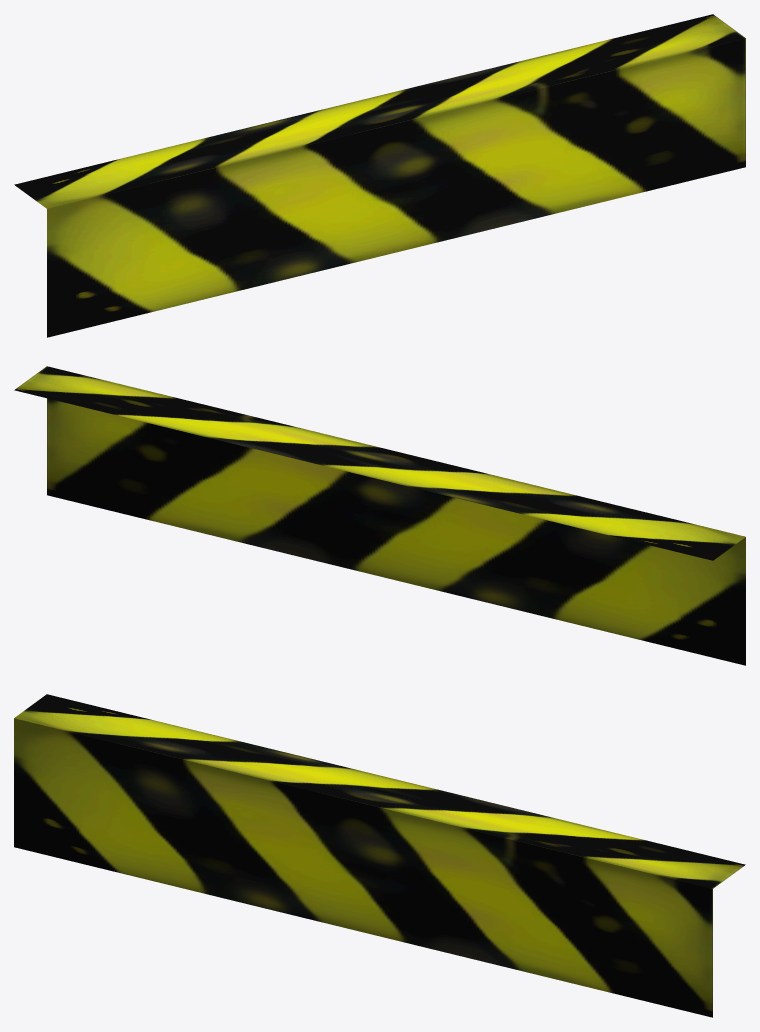
The model's file is Barrikade_2344.glb.
The picture shows the model from 3 angles, top to bottom: view 1: azimuth 30°, elevation 25°; view 2: azimuth 150°, elevation 25°; view 3: azimuth 330°, elevation 25°; orthographic projection.
Parts seen in each view (by area): view 1: pPlaneShape136, pPlaneShape135; view 2: pPlaneShape136, pPlaneShape135; view 3: pPlaneShape136, pPlaneShape135.
Boxes of the visible parts, box(x1,y1,x2,y2) form: pPlaneShape136: box(47, 38, 745, 337); pPlaneShape135: box(14, 14, 745, 208); pPlaneShape136: box(47, 398, 745, 665); pPlaneShape135: box(14, 366, 745, 560); pPlaneShape136: box(14, 718, 712, 1017); pPlaneShape135: box(14, 694, 745, 888).
Bounding box in the file's own units: 0.4271 × 0.0753 × 0.0348.
Materials: 2 (2 with a texture image).
